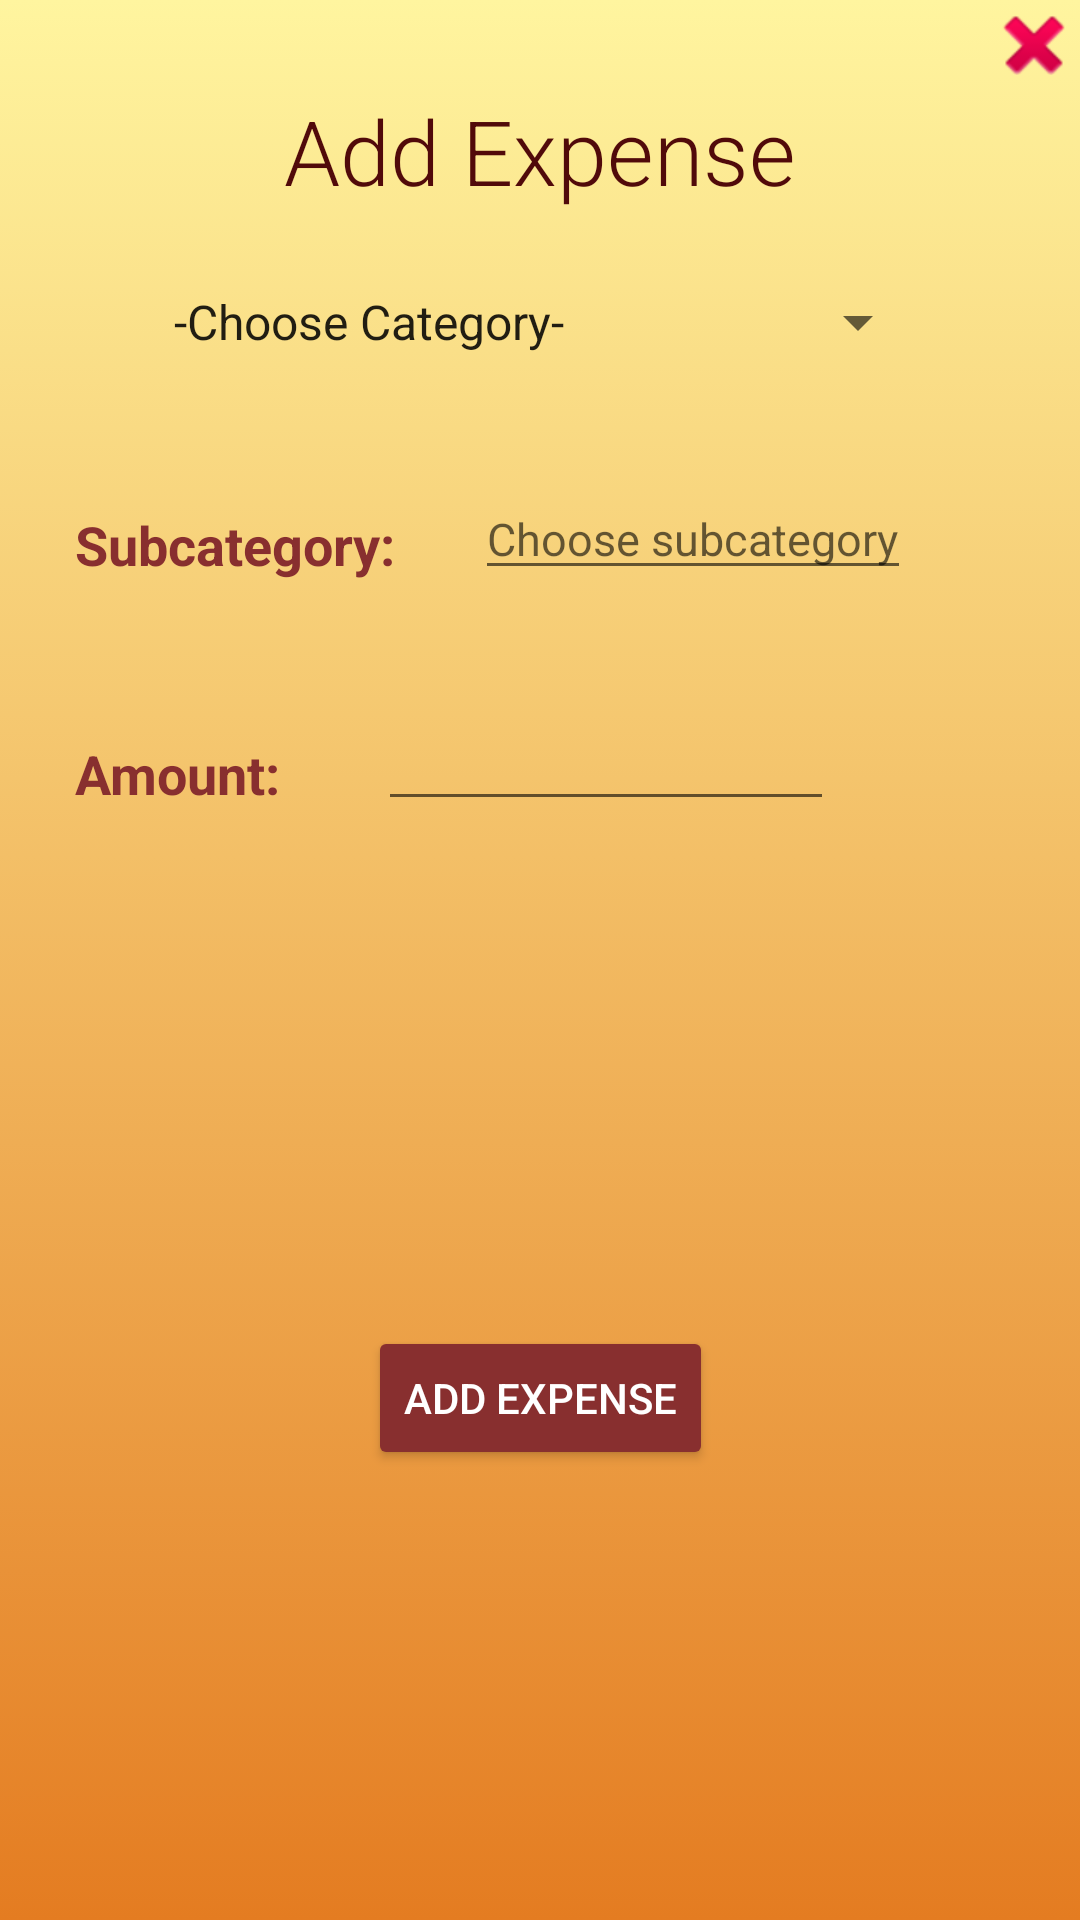

Screen size 1080 × 1920. Icon name, then its box in pixels as detection(x1, y1, x2, y2):
delete: detection(1003, 16, 1065, 75)
